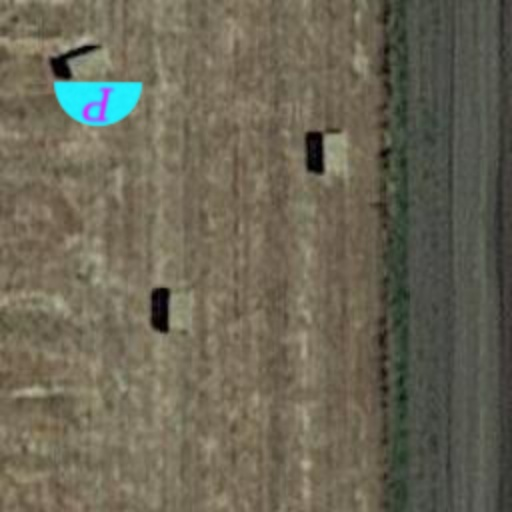semicircle: (52, 58, 144, 150)
